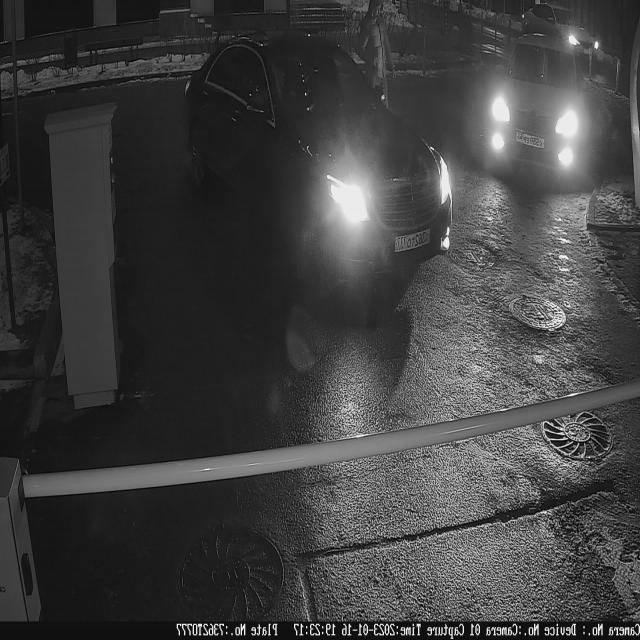car-plate-numbers: (394, 226, 434, 256)
